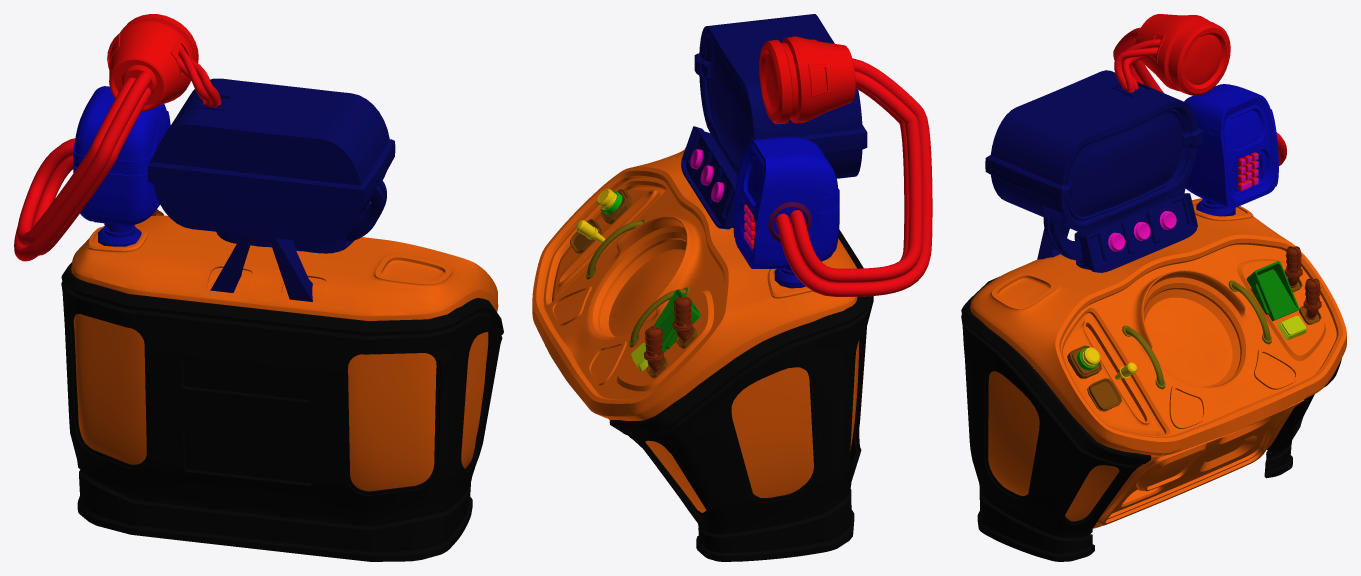
The model's file is Maquina2.fbx.
The picture shows the model from 3 angles, left to right: view 1: azimuth 30°, elevation 25°; view 2: azimuth 150°, elevation 25°; view 3: azimuth 270°, elevation 25°; orthographic projection. The views are drawn at different scales.
Parts seen in each view (by area): view 1: Maquina3Base, Mk4; view 2: Maquina3Base, Mk4; view 3: Maquina3Base, Mk4.
Part boxes in pixels (x1,y1,x2,y2): Maquina3Base: (61, 209, 503, 561); Mk4: (14, 14, 395, 301); Maquina3Base: (532, 147, 873, 561); Mk4: (681, 14, 932, 296); Maquina3Base: (961, 198, 1346, 561); Mk4: (985, 14, 1286, 272).
Bounding box in the file's own units: 202 × 220 × 176.
